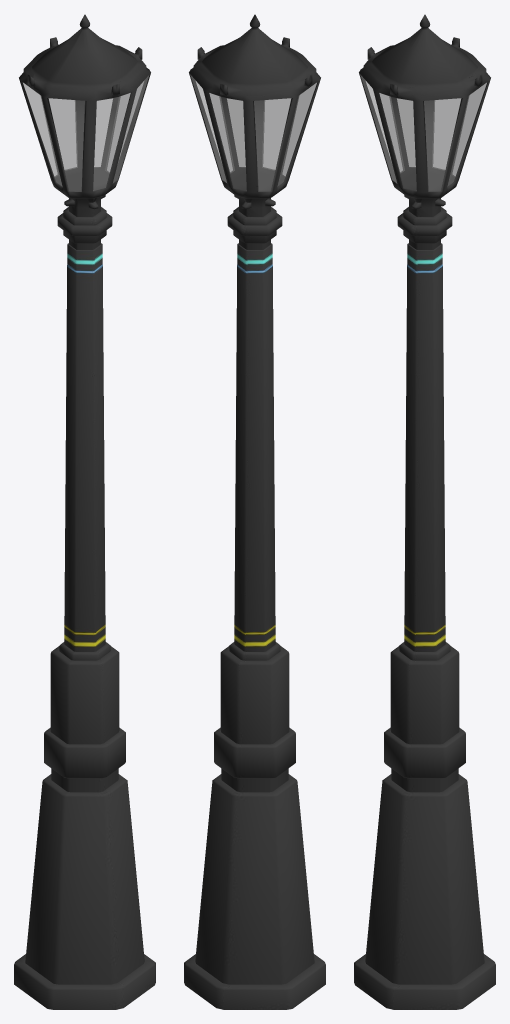
File: LampPost.fbx
The picture shows the model from 3 angles, left to right: view 1: azimuth 30°, elevation 25°; view 2: azimuth 150°, elevation 25°; view 3: azimuth 330°, elevation 25°; orthographic projection.
Parts seen in each view (by area): view 1: Cylinder; view 2: Cylinder; view 3: Cylinder.
Boxes of the visible parts, x1,y1,x2,y2 form: Cylinder: (14, 14, 155, 1009); Cylinder: (184, 14, 325, 1009); Cylinder: (354, 14, 495, 1009).
Size of the model in its own units: 0.4932 by 4.12 by 0.537.
